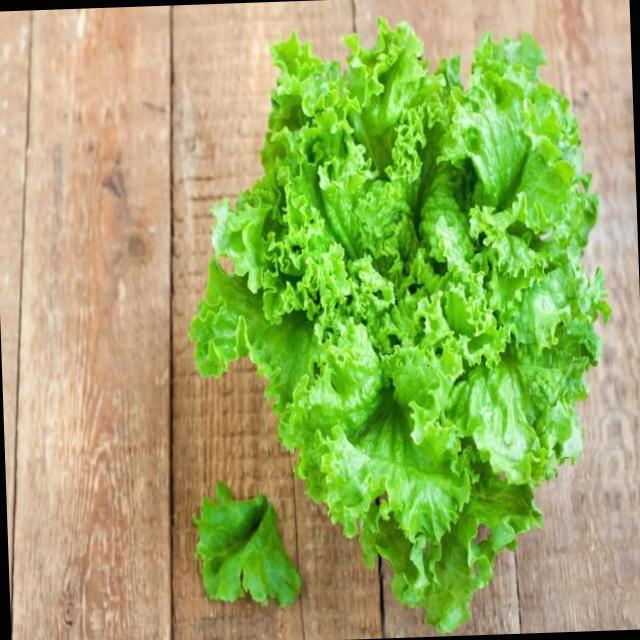Lettuce-Ready-to-Harvest: (191, 23, 609, 629)
